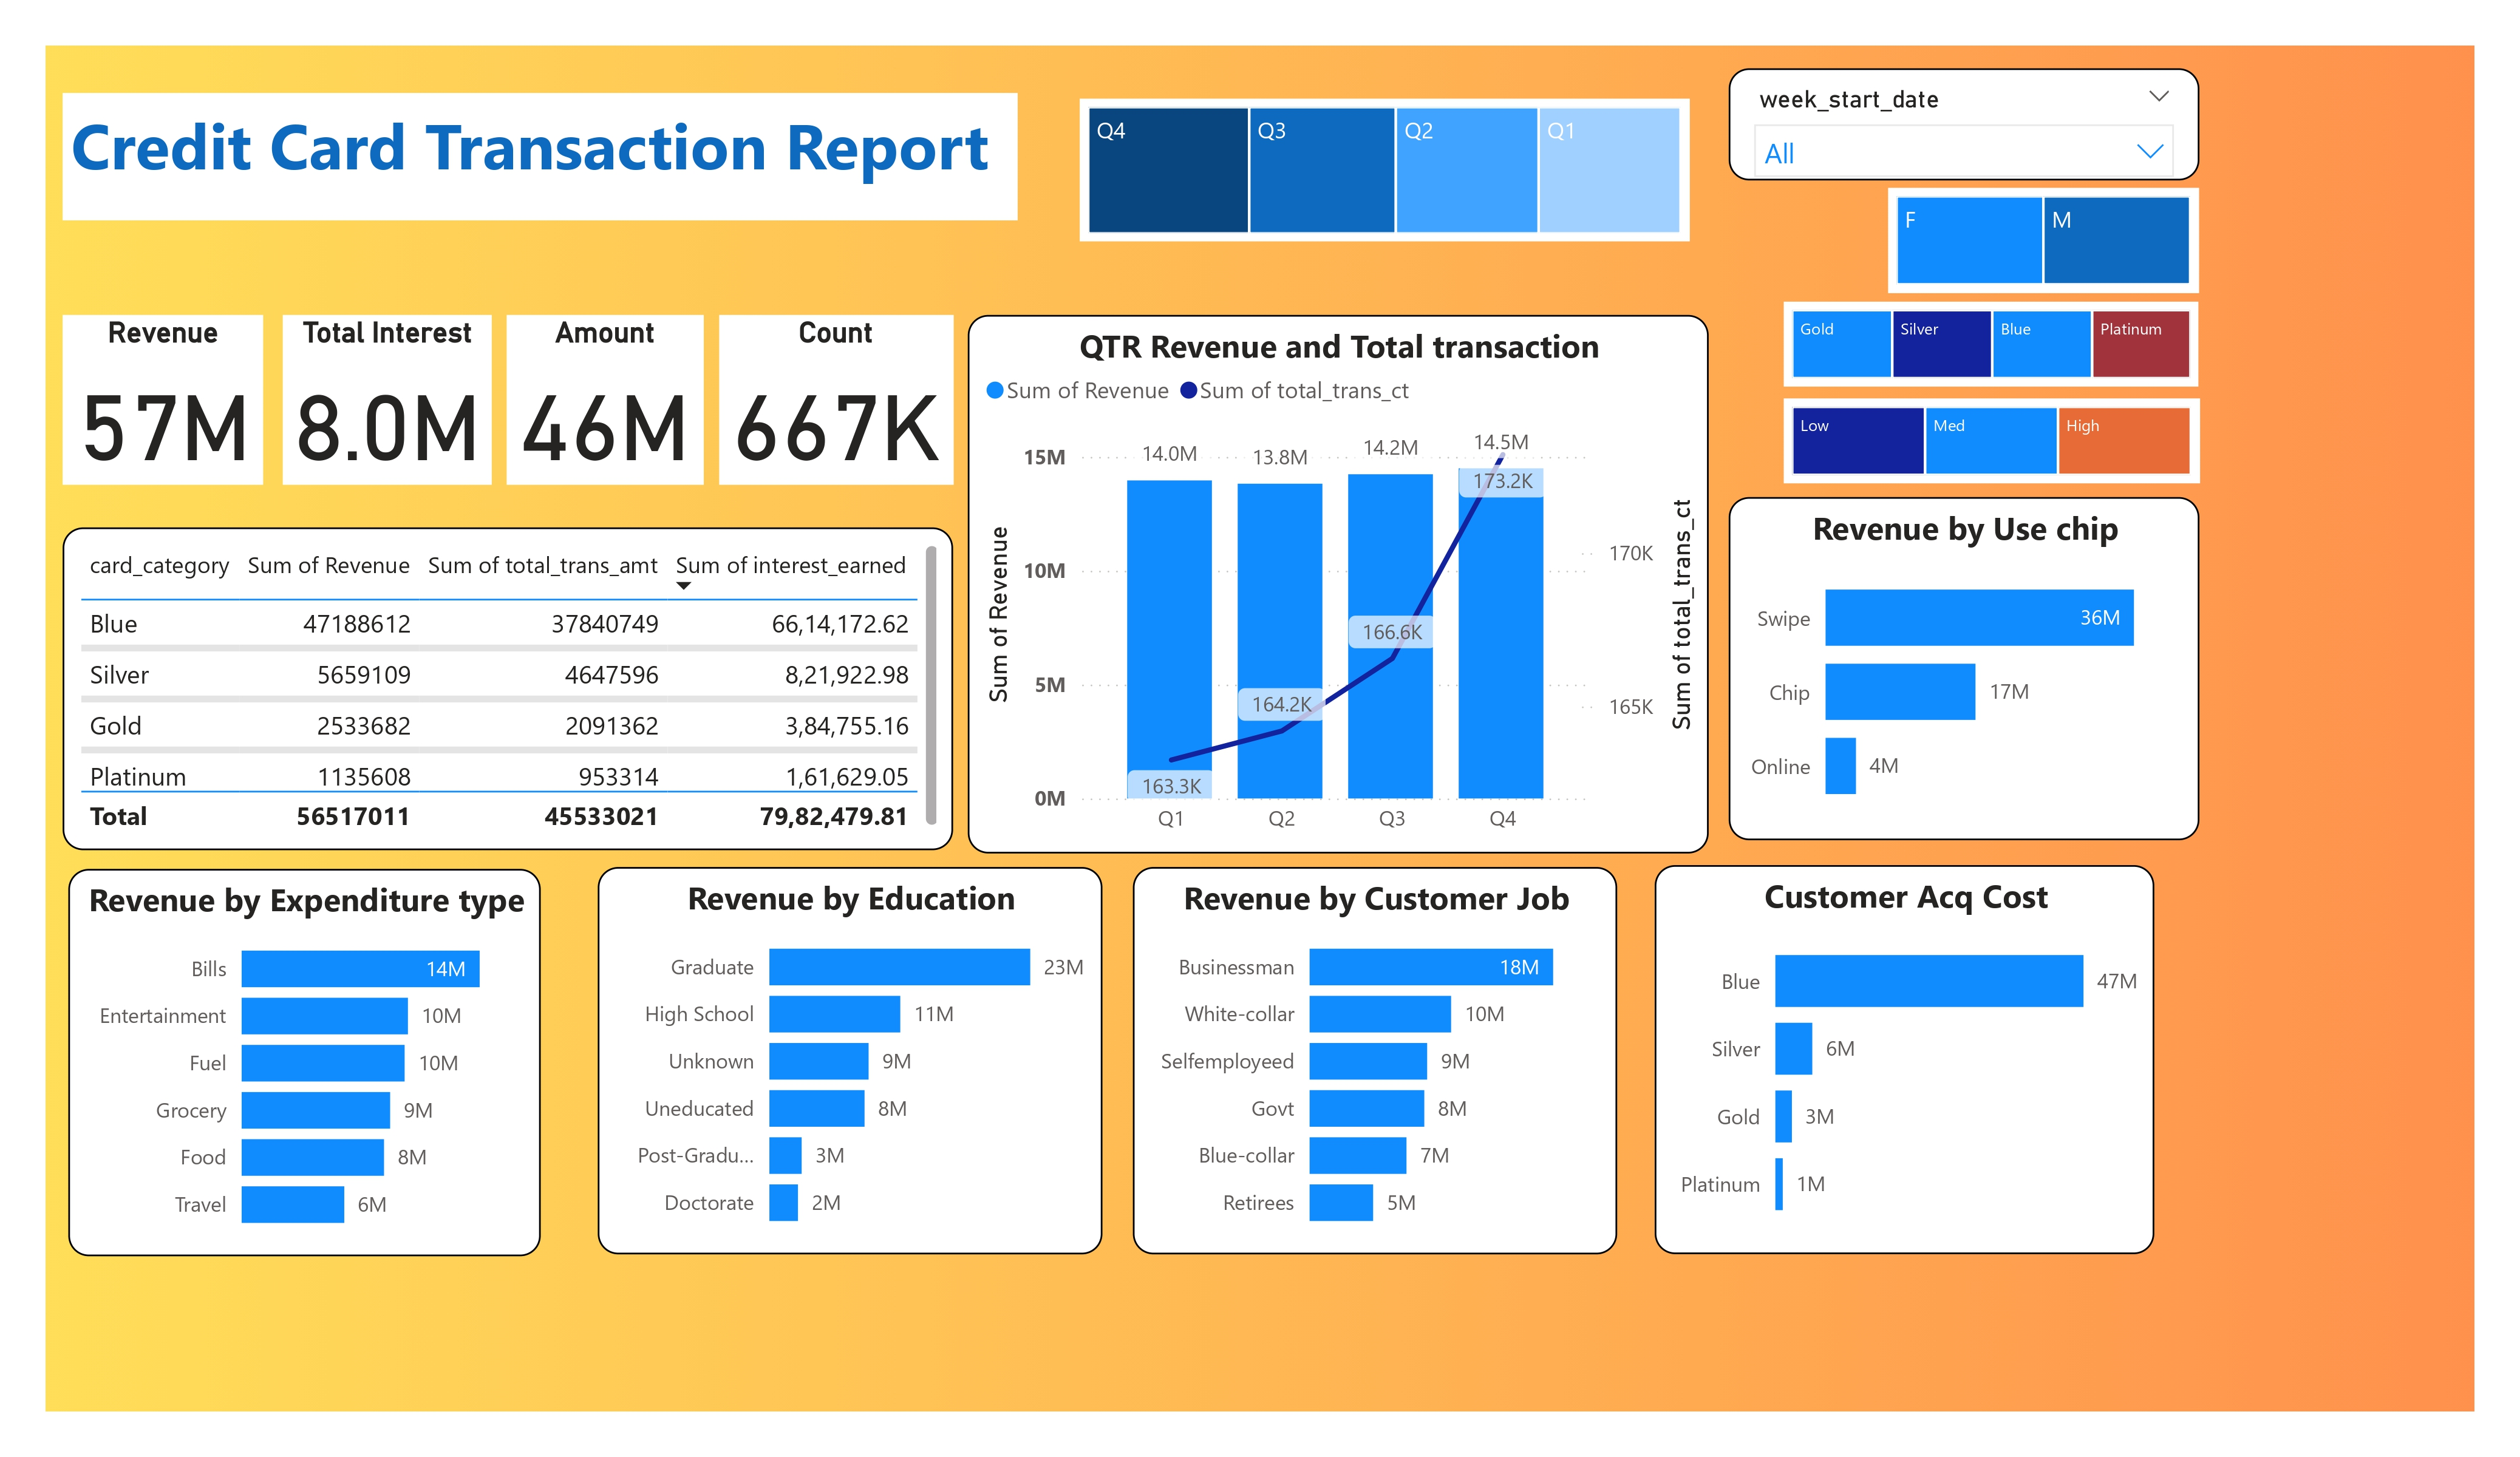

This screenshot's page, from the dashboard's own definition file:
{"tool":"powerbi","page":{"name":"CC Transaction","canvas":[1280,720],"ordinal":0},"visuals":[{"type":"textbox","box":[10,28.3,561.7,75],"z":0},{"type":"lineStackedColumnComboChart","title":"QTR Revenue and Total transaction","fields":{"Category":["public cc_detail.qtr"],"Y":["Sum(public cc_detail.Revenue)"],"Y2":["Sum(public cc_detail.total_trans_ct)"]},"box":[542.9,158.6,435.7,317.1],"z":1000},{"type":"barChart","title":"Revenue by Expenditure type","fields":{"Y":["Sum(public cc_detail.Revenue)"],"Category":["public cc_detail.exp_type"]},"box":[13.3,485,278.3,228.3],"z":2000},{"type":"barChart","title":"Revenue by Education","fields":{"Y":["Sum(public cc_detail.Revenue)"],"Category":["public cust_detail.education_level"]},"box":[325,483.3,296.7,228.3],"z":3000},{"type":"barChart","title":"Revenue by Customer Job","fields":{"Y":["Sum(public cc_detail.Revenue)"],"Category":["public cust_detail.customer_job"]},"box":[640,483.3,285,228.3],"z":4000},{"type":"barChart","title":"Customer Acq Cost","fields":{"Y":["Sum(public cc_detail.Revenue)"],"Category":["public cc_detail.card_category"]},"box":[947.1,482.9,294.3,228.6],"z":5000},{"type":"barChart","title":"Revenue by Use chip","fields":{"Y":["Sum(public cc_detail.Revenue)"],"Category":["public cc_detail.use_chip"]},"box":[990,266.2,276.9,202.3],"z":6000},{"type":"tableEx","fields":{"Values":["public cc_detail.card_category","Sum(public cc_detail.Revenue)","Sum(public cc_detail.total_trans_amt)","Sum(public cc_detail.interest_earned)"]},"box":[10,284.2,524.2,190],"z":7000},{"type":"card","title":"Revenue","fields":{"Values":["Sum(public cc_detail.Revenue)"]},"box":[10,158.3,118.3,100],"z":8000},{"type":"card","title":"Amount","fields":{"Values":["Sum(public cc_detail.total_trans_amt)"]},"box":[271.7,158.3,115.8,100],"z":9000},{"type":"card","title":"Total Interest","fields":{"Values":["Sum(public cc_detail.interest_earned)"]},"box":[139.2,158.3,123.3,100],"z":10000},{"type":"card","title":"Count","fields":{"Values":["Sum(public cc_detail.total_trans_ct)"]},"box":[396.7,158.3,137.5,100],"z":11000},{"type":"slicer","fields":{"Values":["public cc_detail.week_start_date"]},"box":[990,12.9,277.1,65.7],"z":12000},{"type":"treemap","fields":{"Group":["public cc_detail.qtr"],"Values":["Avg(public cc_detail.client_num)"]},"box":[608.6,31.4,358.6,84.3],"z":13000},{"type":"treemap","fields":{"Group":["public cust_detail.gender"],"Values":["Avg(public cc_detail.client_num)"]},"box":[1084.5,83.6,182.7,61.8],"z":14000},{"type":"treemap","fields":{"Group":["public cc_detail.card_category"],"Values":["Avg(public cc_detail.client_num)"]},"box":[1022.9,150.7,244.3,50],"z":15000},{"type":"treemap","fields":{"Group":["public cust_detail.IncomeGroup"],"Values":["Avg(public cc_detail.client_num)"]},"box":[1022.7,208.2,244.5,50],"z":16000}]}

Visuals, with their boxes on the page's 1280x720 design canvas (x1, y1, x2, y2). These are canvas units, not pixel positions in the 2520x1457 screenshot, which may show the page scaled, cropped or inside an application window:
textbox: crop(10, 28, 572, 103)
"QTR Revenue and Total transaction" lineStackedColumnComboChart: crop(543, 159, 979, 476)
"Revenue by Expenditure type" barChart: crop(13, 485, 292, 713)
"Revenue by Education" barChart: crop(325, 483, 622, 712)
"Revenue by Customer Job" barChart: crop(640, 483, 925, 712)
"Customer Acq Cost" barChart: crop(947, 483, 1241, 712)
"Revenue by Use chip" barChart: crop(990, 266, 1267, 468)
tableEx - public cc_detail.card_category x Sum(public cc_detail.Revenue): crop(10, 284, 534, 474)
"Revenue" card: crop(10, 158, 128, 258)
"Amount" card: crop(272, 158, 388, 258)
"Total Interest" card: crop(139, 158, 262, 258)
"Count" card: crop(397, 158, 534, 258)
slicer - public cc_detail.week_start_date: crop(990, 13, 1267, 79)
treemap - public cc_detail.qtr x Avg(public cc_detail.client_num): crop(609, 31, 967, 116)
treemap - public cust_detail.gender x Avg(public cc_detail.client_num): crop(1084, 84, 1267, 145)
treemap - public cc_detail.card_category x Avg(public cc_detail.client_num): crop(1023, 151, 1267, 201)
treemap - public cust_detail.IncomeGroup x Avg(public cc_detail.client_num): crop(1023, 208, 1267, 258)
